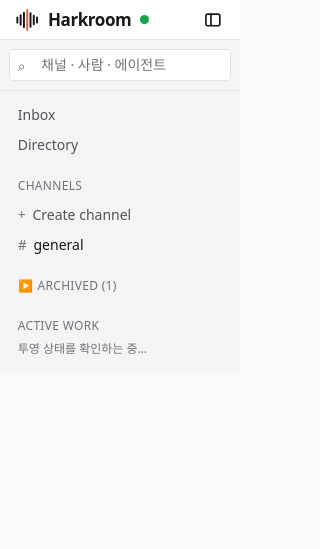
it: 채널 삭제 UI (#155) › 보관되지 않은 채널에는 삭제 항목이 없다
Right-click the button "# general" at (120, 244), box [9,229,231,259]
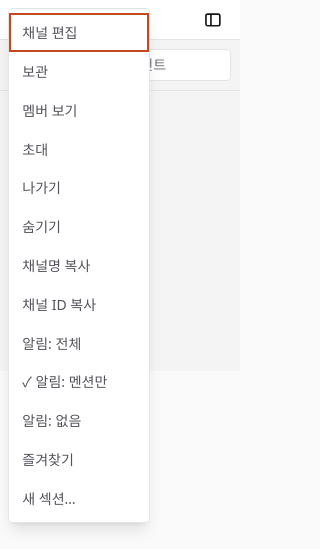
Expected: the text "보관" is shown, [22,61,48,82]
